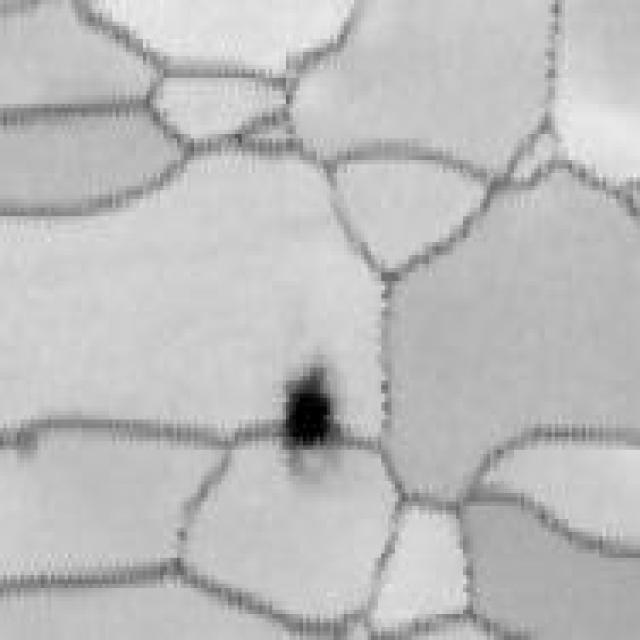good_void: (276, 364, 342, 453)
